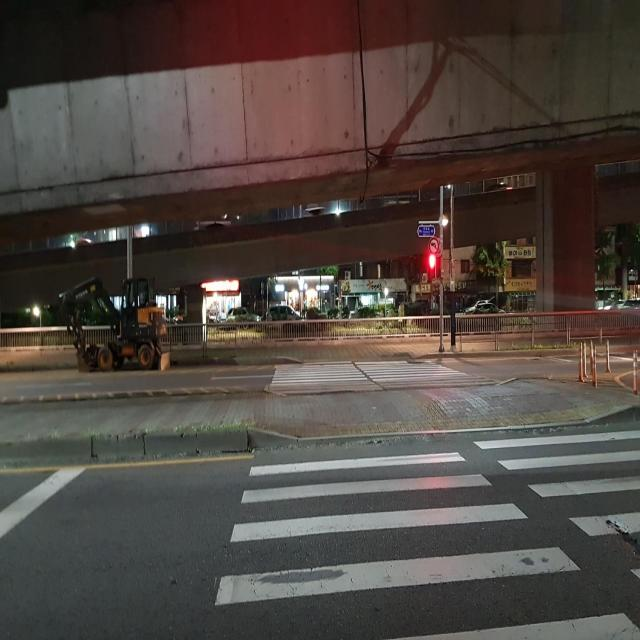빨간불: (428, 252, 436, 283)
횡단보도: (212, 425, 640, 640), (268, 358, 472, 390)
